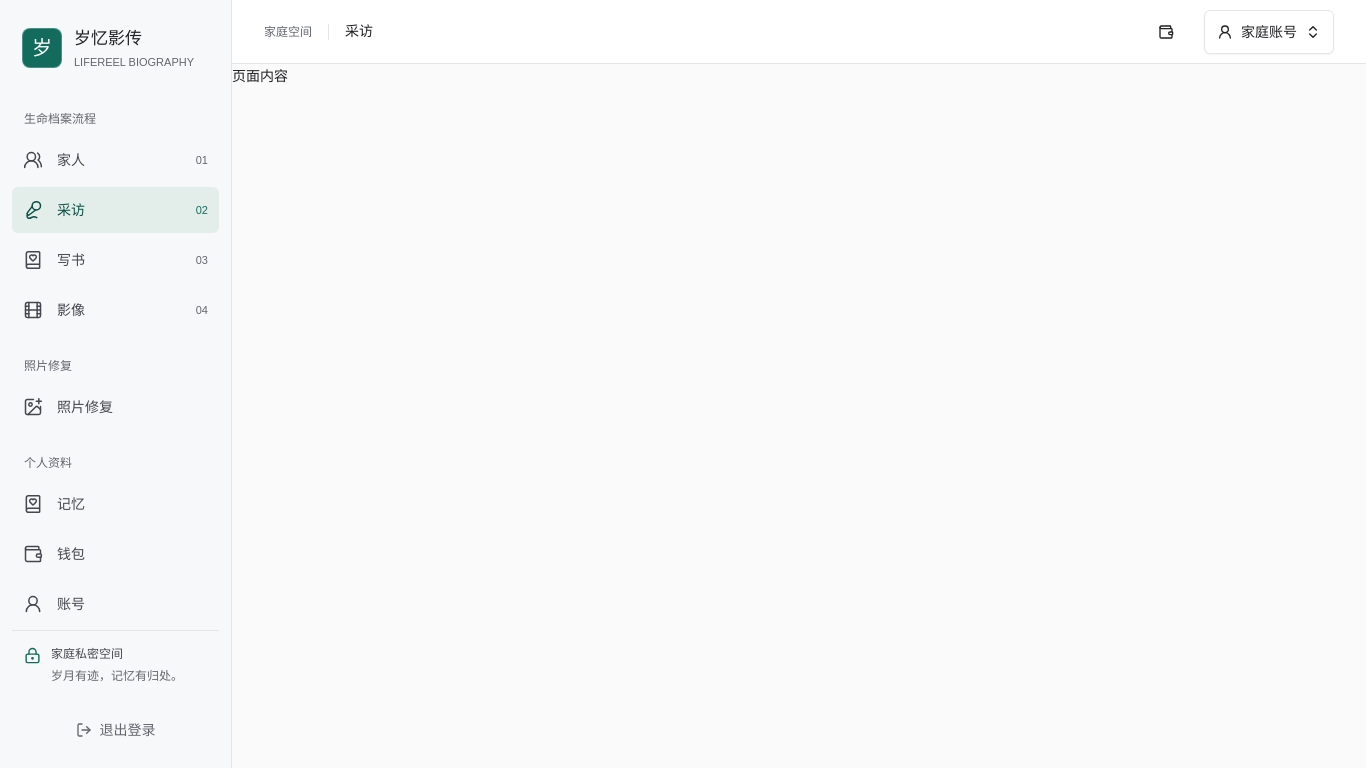
highlights a workflow step on a subpage and returns home through the brand
The width and height of the screenshot is (1366, 768).
Step 1. Click the link with aria-label "岁忆影传首页" → (116, 48), box [22, 22, 209, 74]
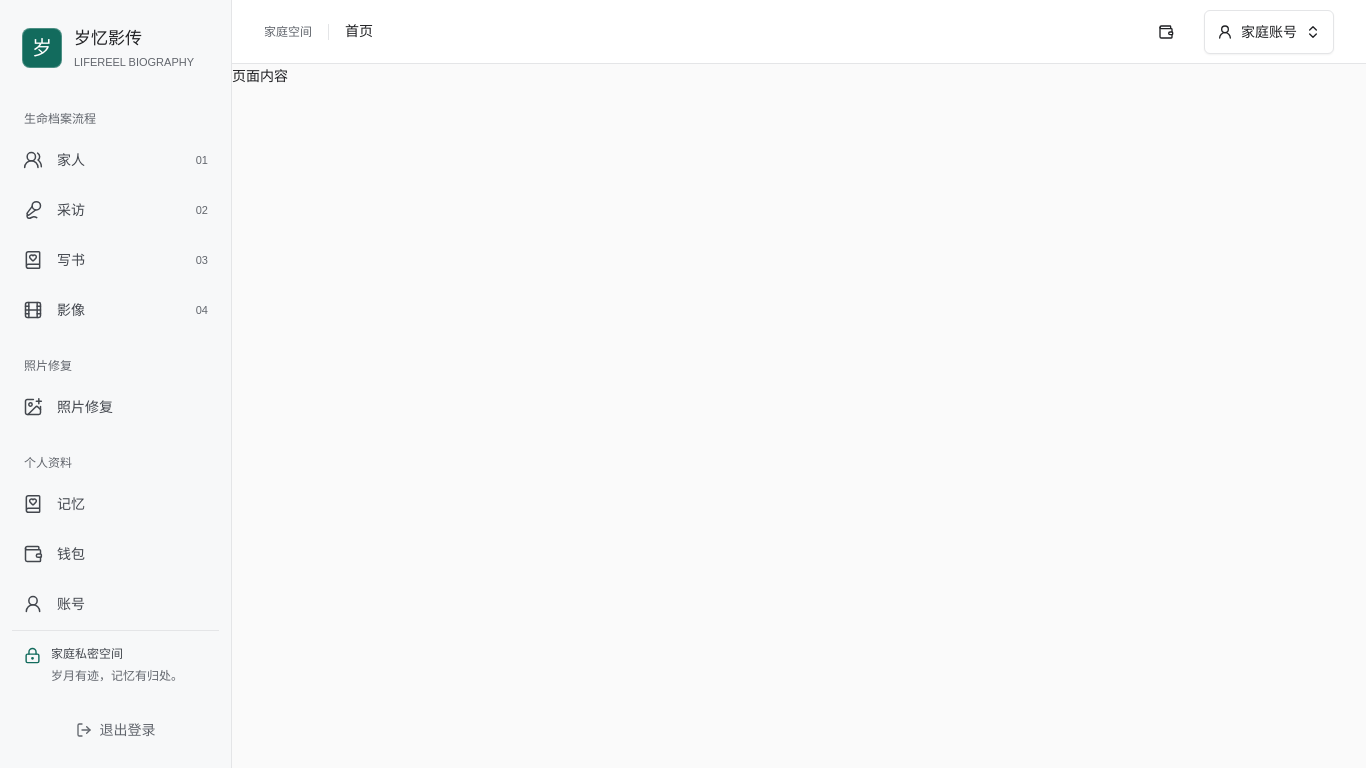
Now the text "首页" is shown, box [345, 21, 373, 42]
